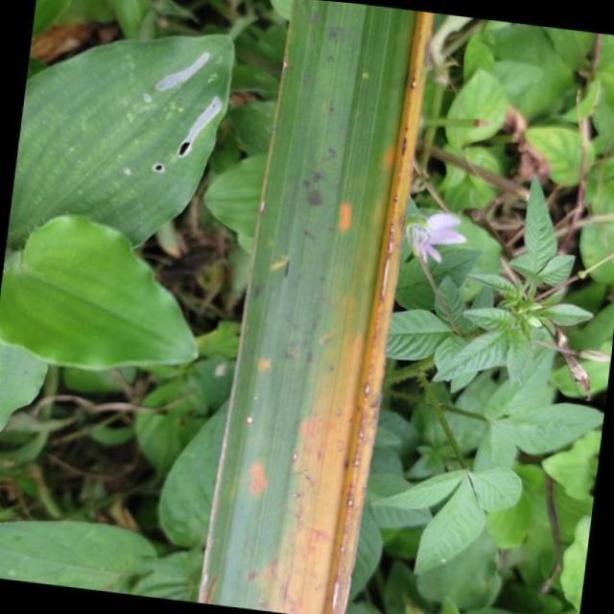Megnesium: (195, 0, 432, 614)
